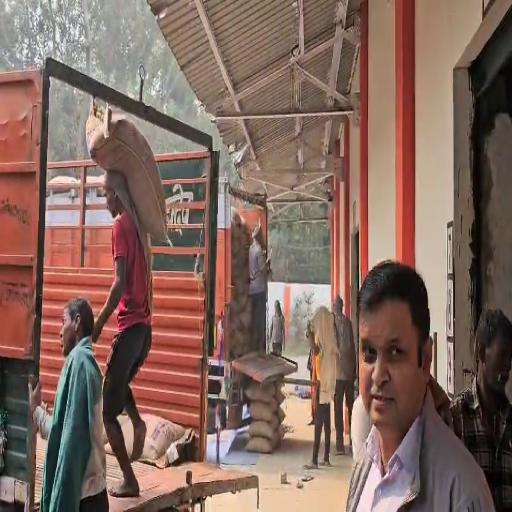bag: (84, 96, 172, 247)
